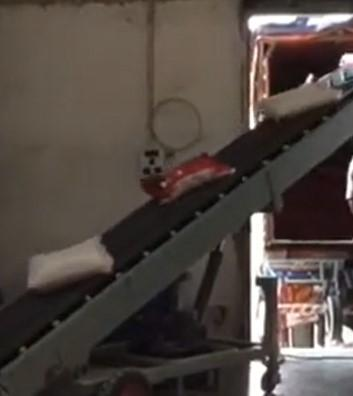rice-bag: (27, 236, 113, 291), (143, 154, 235, 202), (257, 82, 341, 120)
